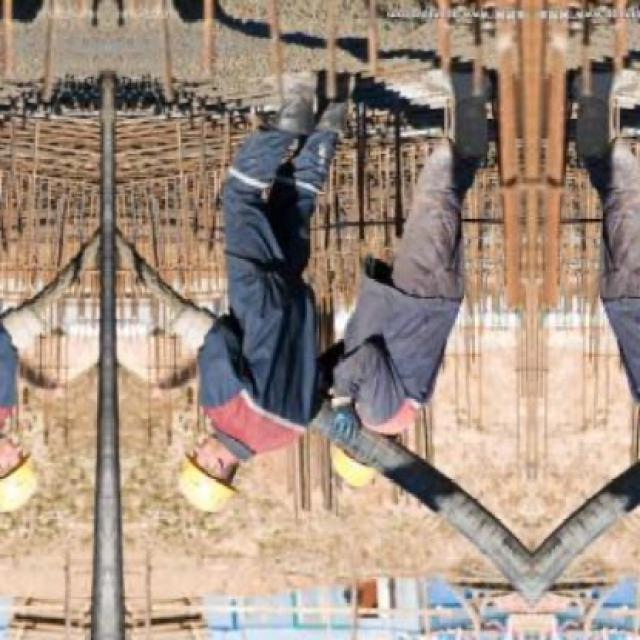con casco: (318, 399, 428, 520), (167, 415, 281, 518), (0, 426, 61, 520)
